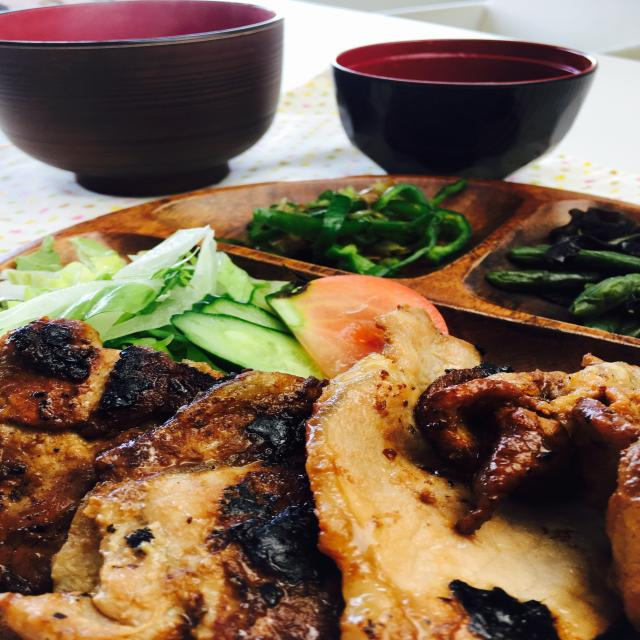OK cooked pork,: (299, 312, 610, 640)
overcooked pork: (0, 372, 356, 640), (413, 341, 640, 636), (0, 425, 175, 599), (0, 317, 247, 430)
